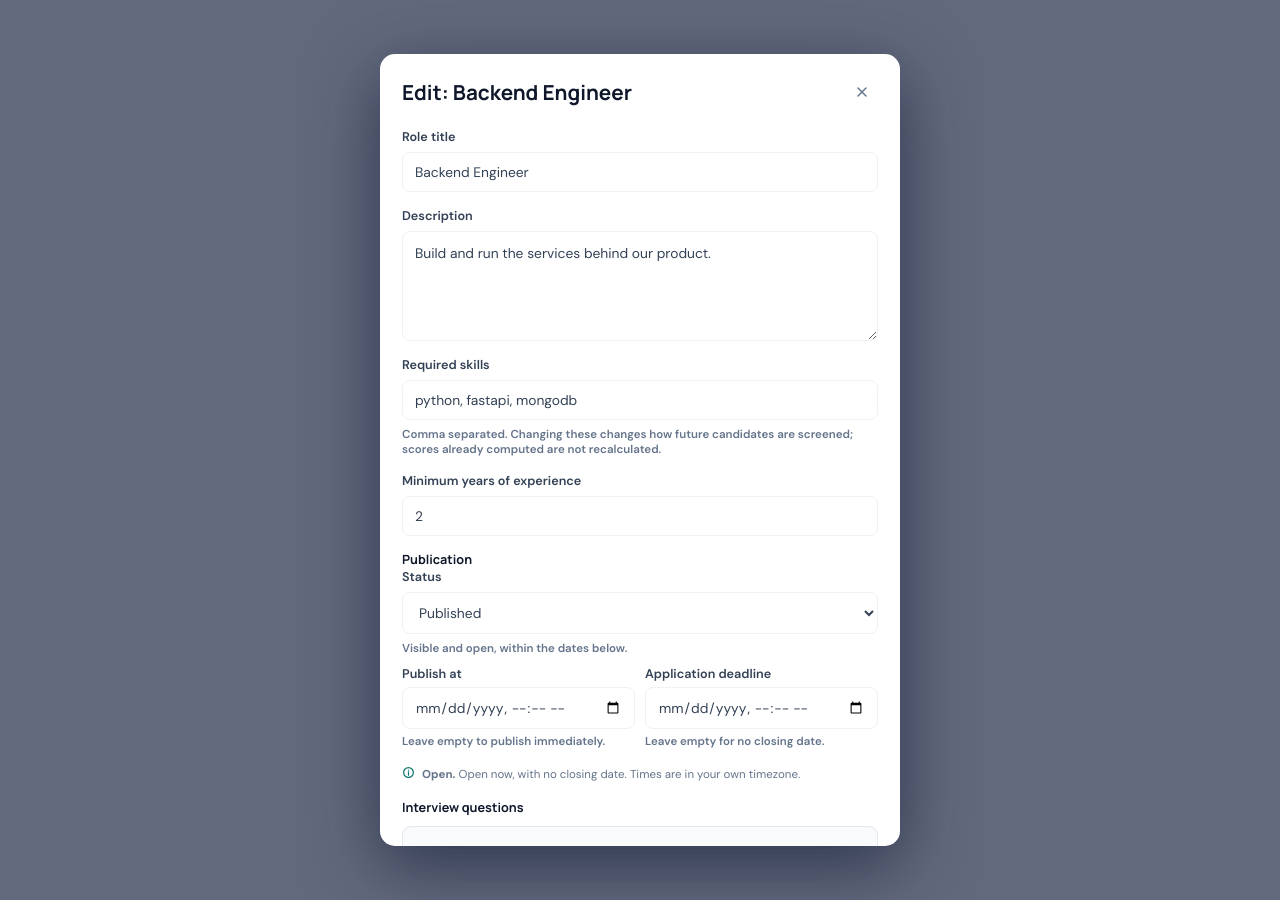
Scenario: editing a role › reports a rejected save
Replace the text in the field labelled "Role title" with "Renamed" at {"x": 640, "y": 172}, box [402,152,878,192]
(page scrolled)
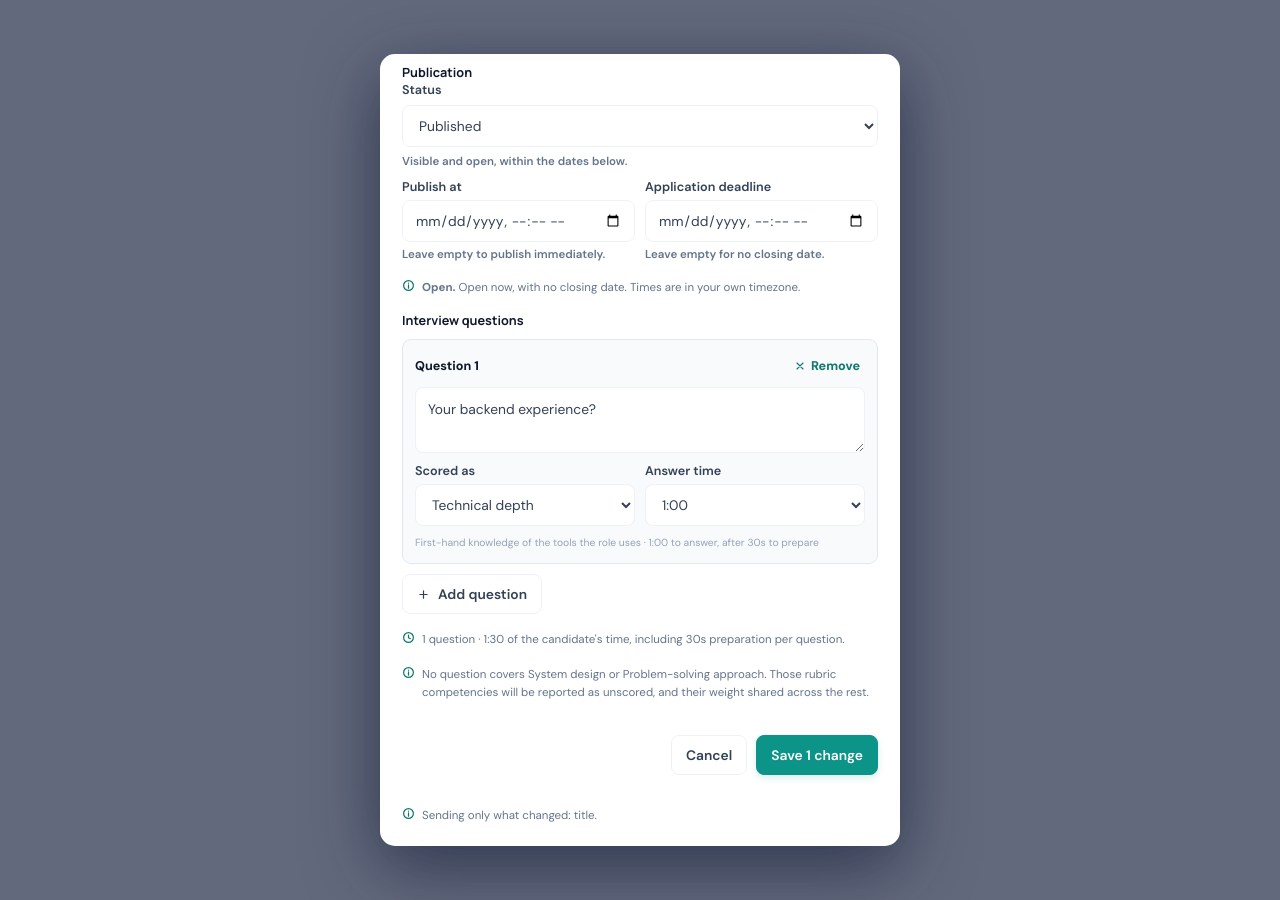
Click the button "Save 1 change" at {"x": 817, "y": 755}, box [756,735,878,775]
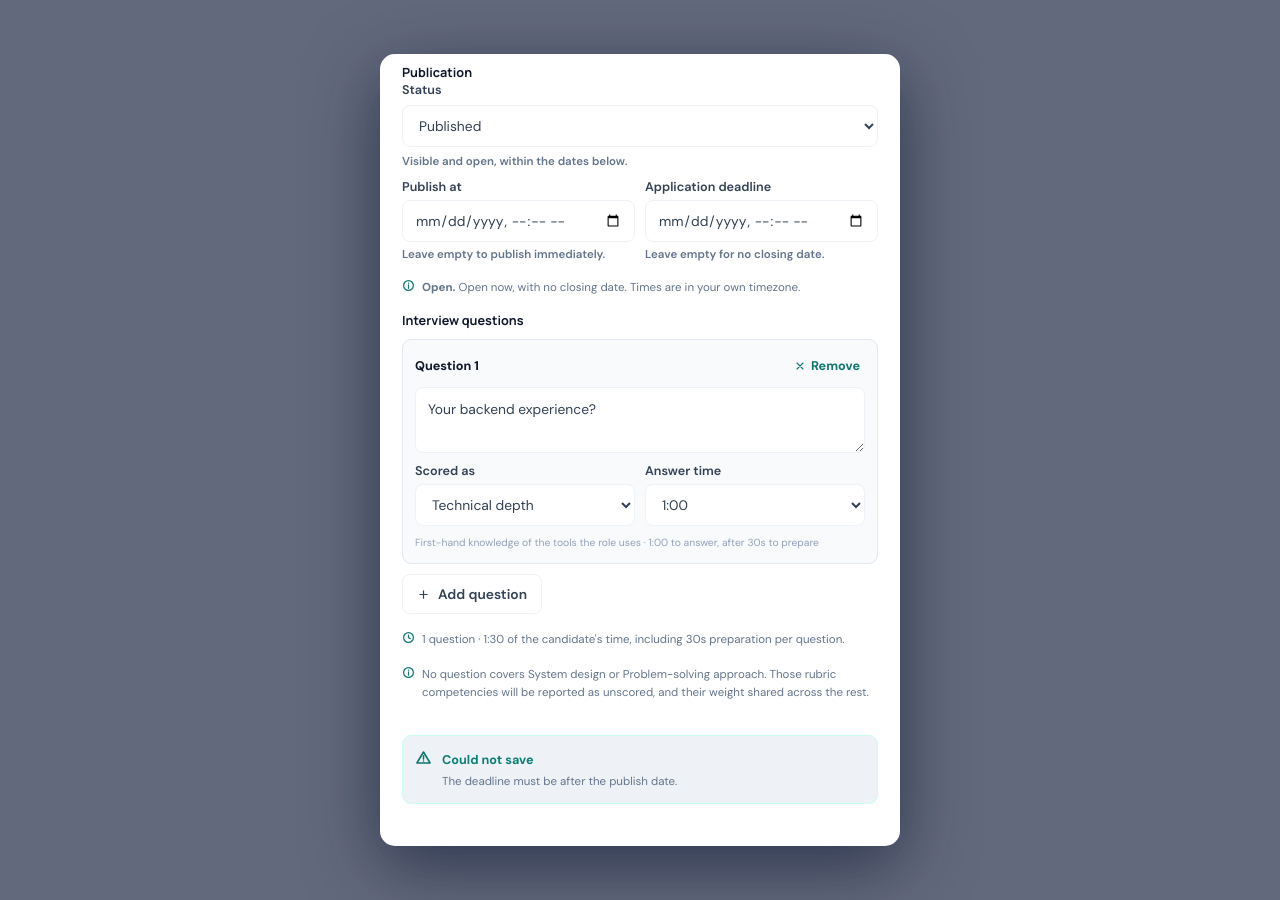
Expected: the text "Could not save" is shown, [442,751,534,768]
